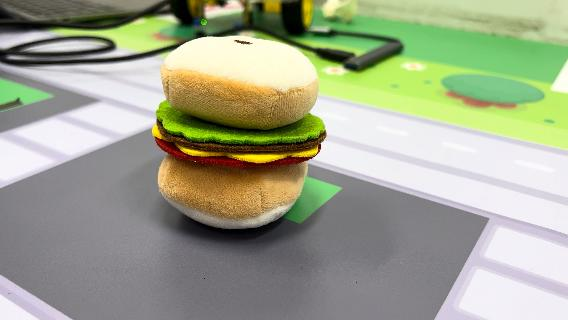sandwich: (152, 34, 328, 230)
